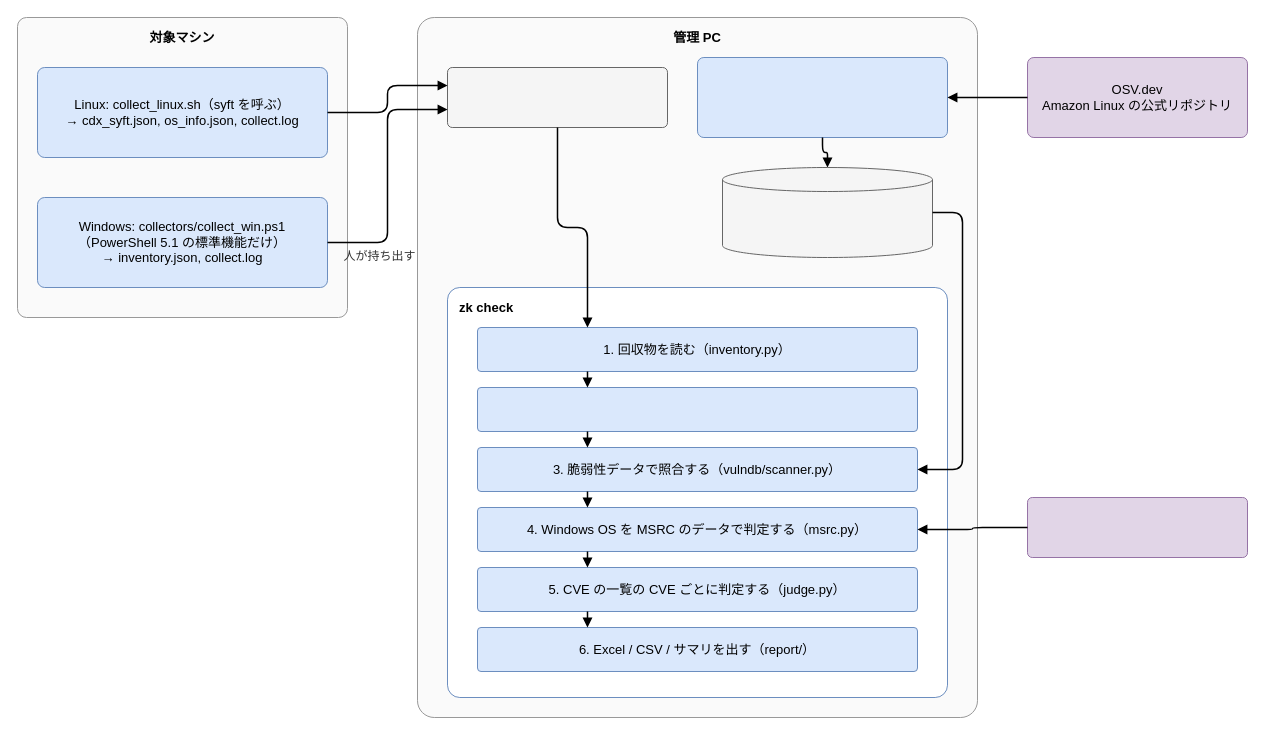
Some shapes in this 1265 by 735 pixel diagram are drawn without their labels. The centre of each missing label's shape, as x and y in pixels:
"2. PURL を付ける（sbom_builder.py）" belongs at [697,409].
"Microsoft（MSRC）" belongs at [1137,527].
"zk update 脆弱性データを取得し、索引を作る （2 回目以降は差分）" belongs at [822,97].
"回収物（1 台ぶん） inventory/サーバー名/" belongs at [557,97].
"脆弱性データ vulndb/（zip と SQLite の索引）" belongs at [827,212].
